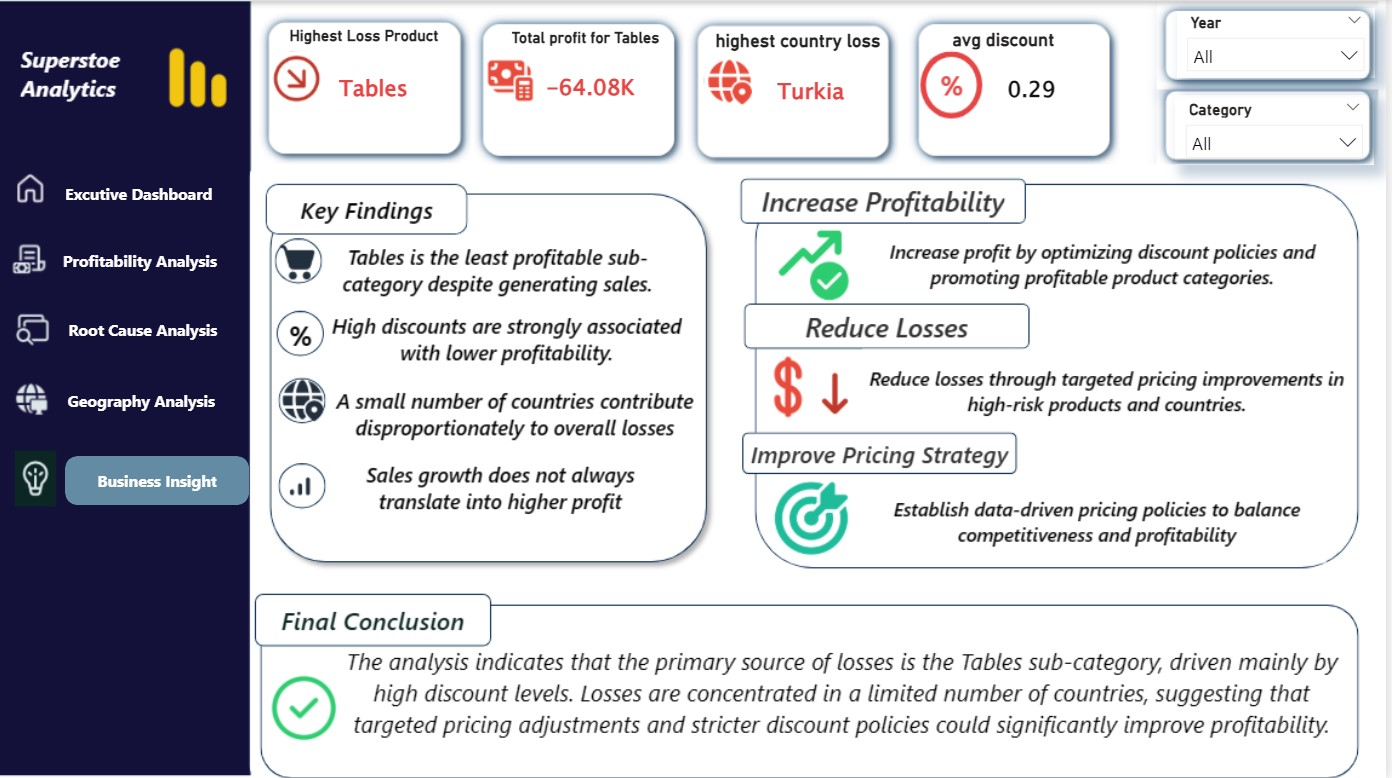

The dashboard page shown, as its layout file describes it:
{"tool":"powerbi","page":{"name":"Business Insight","canvas":[1280,720],"ordinal":4},"visuals":[{"type":"shape","box":[22.7,155,213.5,47.2],"z":0},{"type":"shape","box":[24.6,281.6,215.4,45.4],"z":1000},{"type":"shape","box":[20.8,345.8,221.1,47.2],"z":2000},{"type":"shape","box":[60.5,421.4,170.1,45.4],"z":3000},{"type":"shape","box":[18.9,217.3,221.1,47.2],"z":4000},{"type":"cardVisual","title":"Highest Loss Product","fields":{"Data":["measuress.Highest Loss"]},"box":[263.3,25,165,95],"z":5000},{"type":"cardVisual","title":"Total profit","fields":{"Data":["measuress.avg discount"]},"box":[875,26.7,156.7,91.7],"z":6000},{"type":"cardVisual","title":"Total profit","fields":{"Data":["measuress.Loss country"]},"box":[667.1,26.5,156.9,92.6],"z":7000},{"type":"slicer","fields":{"Values":["Date.Year"]},"box":[1086.7,6.7,183.3,65],"z":8000},{"type":"slicer","fields":{"Values":["Dim_product.Category"]},"box":[1085,86.7,183.3,65],"z":9000},{"type":"cardVisual","title":"Total profit for Tables","fields":{"Data":["measuress.total profit"]},"box":[468.3,26.7,156.7,91.7],"z":10000}]}

Visuals, with their boxes on the page's 1280x720 design canvas (x1, y1, x2, y2). These are canvas units, not pixel positions in the 1392x778 screenshot, which may show the page scaled, cropped or inside an application window:
shape: left=23, top=155, right=236, bottom=202
shape: left=25, top=282, right=240, bottom=327
shape: left=21, top=346, right=242, bottom=393
shape: left=60, top=421, right=231, bottom=467
shape: left=19, top=217, right=240, bottom=264
"Highest Loss Product" cardVisual: left=263, top=25, right=428, bottom=120
"Total profit" cardVisual: left=875, top=27, right=1032, bottom=118
"Total profit" cardVisual: left=667, top=26, right=824, bottom=119
slicer - Date.Year: left=1087, top=7, right=1270, bottom=72
slicer - Dim_product.Category: left=1085, top=87, right=1268, bottom=152
"Total profit for Tables" cardVisual: left=468, top=27, right=625, bottom=118
